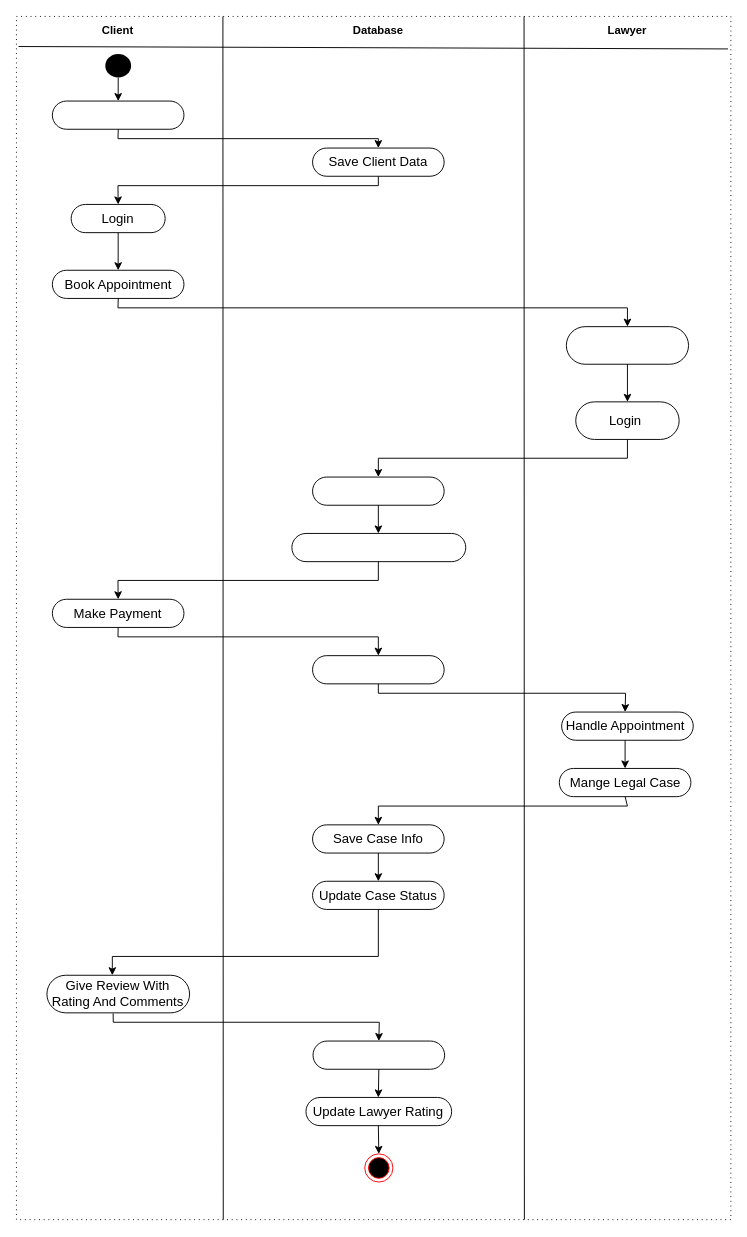
The diagram is 747 pixels wide and 1237 high, and some of its shapes have lost their labels. The shapes that lost their labels are listed below. From the top down, each one's centre as x and y in pixels, then its label:
[117,114]: Client Registration
[627,345]: Lawyer Registration
[378,490]: Save Lawyer Info
[378,547]: Save Appointment Info
[378,669]: Save Payment Info
[378,1054]: Save Review
